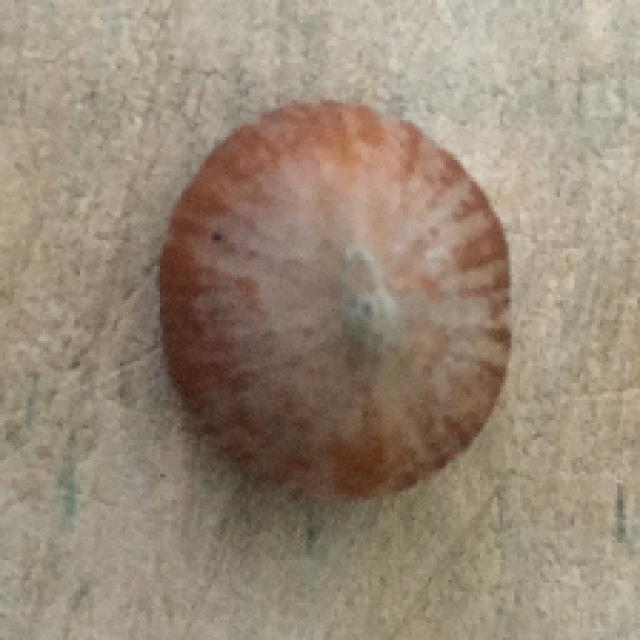QualityHazelnut: (156, 94, 519, 501)
